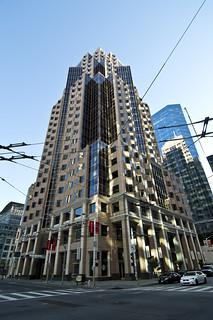building: (21, 45, 200, 285)
